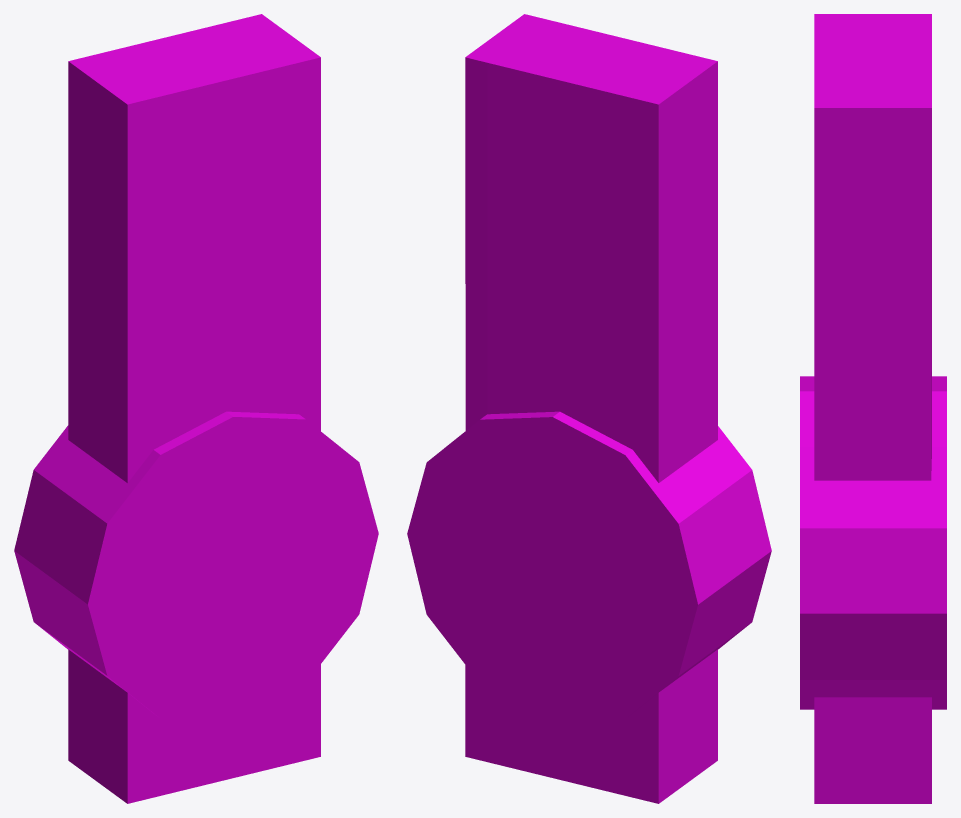
Rendered from Juguete_Rosa.fbx.
3 renders of one model, left to right at view 1: azimuth 30°, elevation 25°; view 2: azimuth 150°, elevation 25°; view 3: azimuth 270°, elevation 25°, orthographic.
Visible parts, largest first — view 1: Juguete_3; view 2: Juguete_3; view 3: Juguete_3.
Part boxes in pixels (x1=…): Juguete_3: x1=14, y1=14, x2=378, y2=803; Juguete_3: x1=407, y1=14, x2=771, y2=803; Juguete_3: x1=800, y1=14, x2=946, y2=803.
Bounding box in the file's own units: 11.74 × 26.97 × 5.15.
